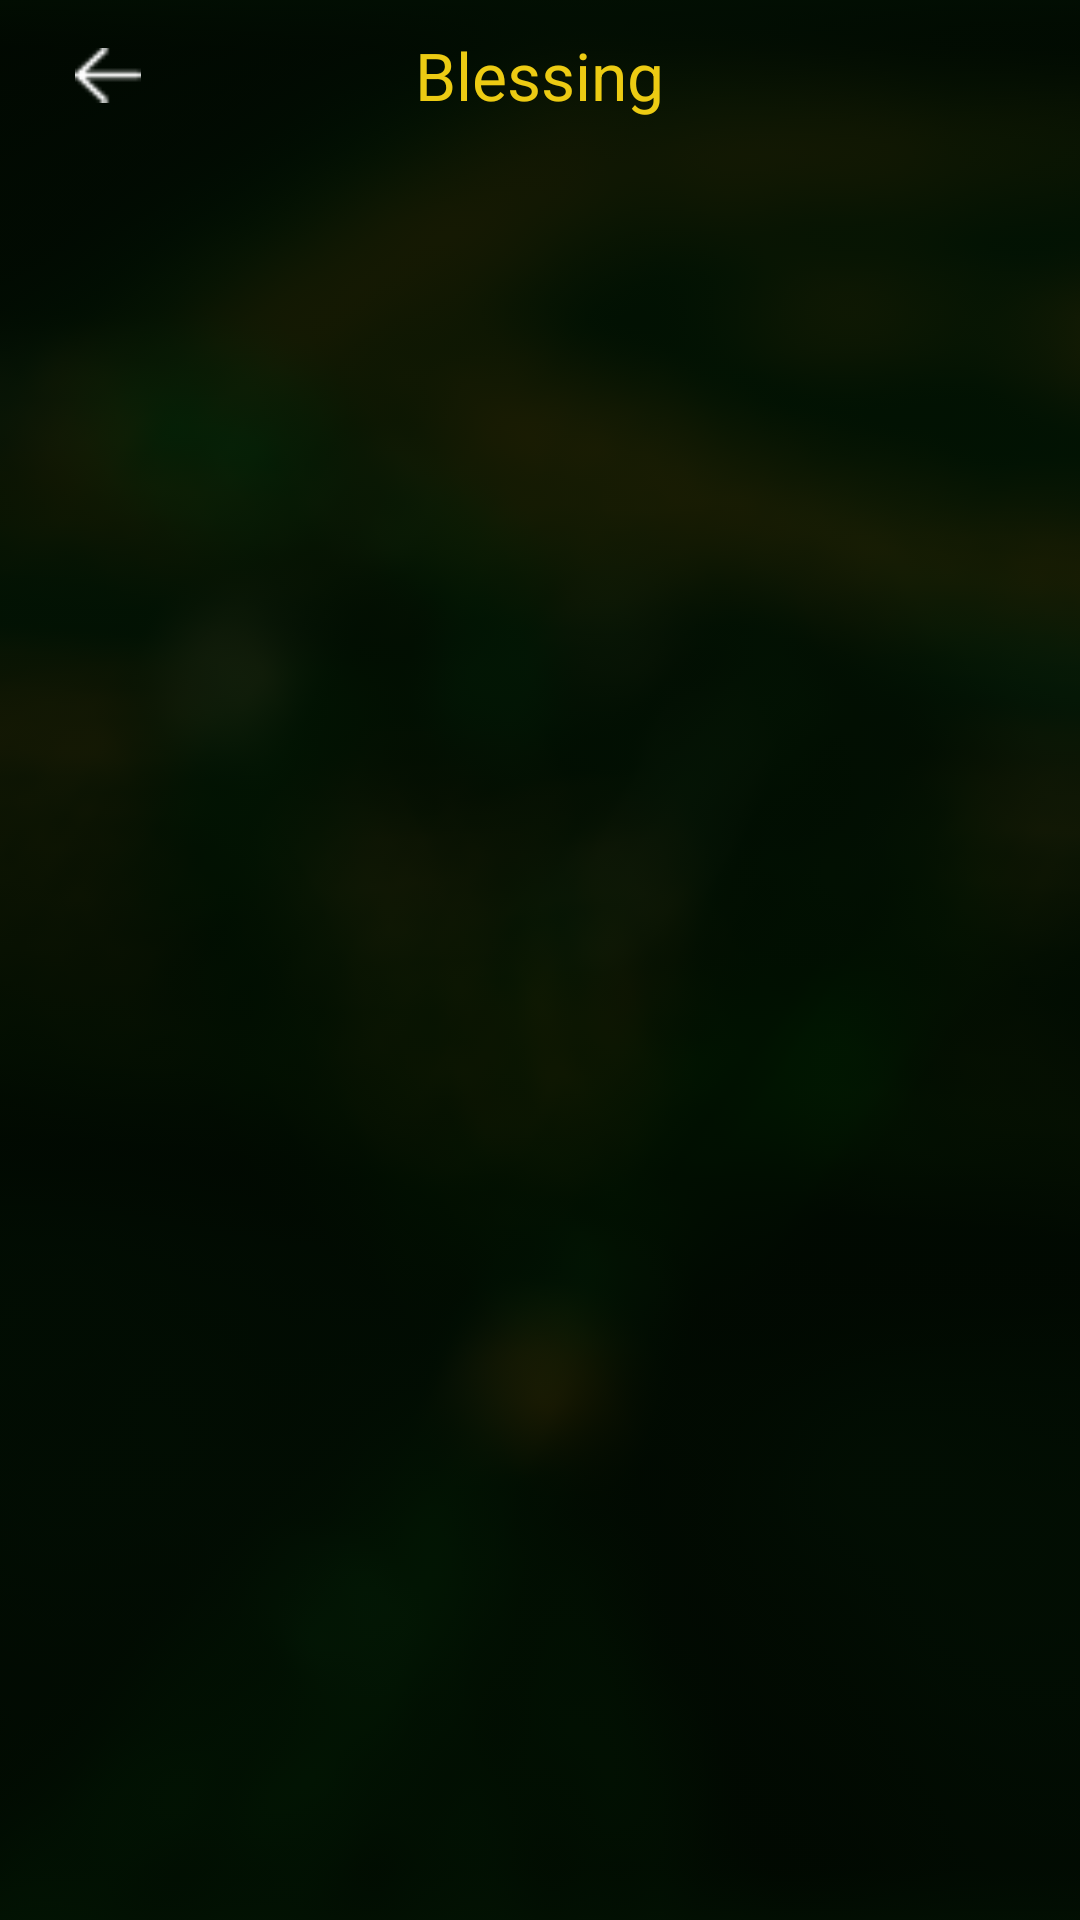

Point at icon controls on the screen. Image size 1080*1920, points as [x,y].
back: [108,75]
